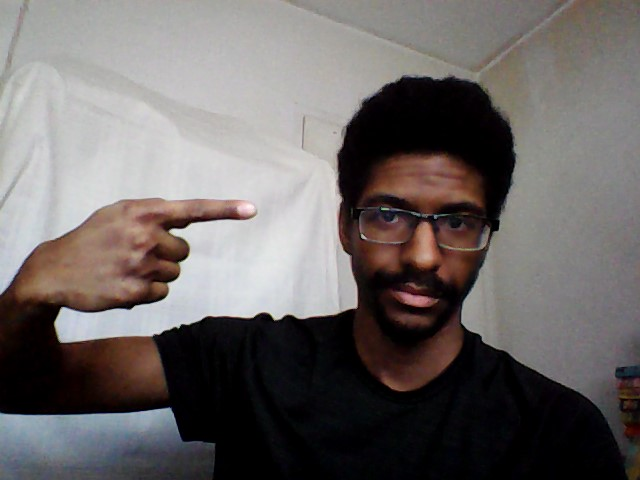g: (51, 193, 266, 318)
